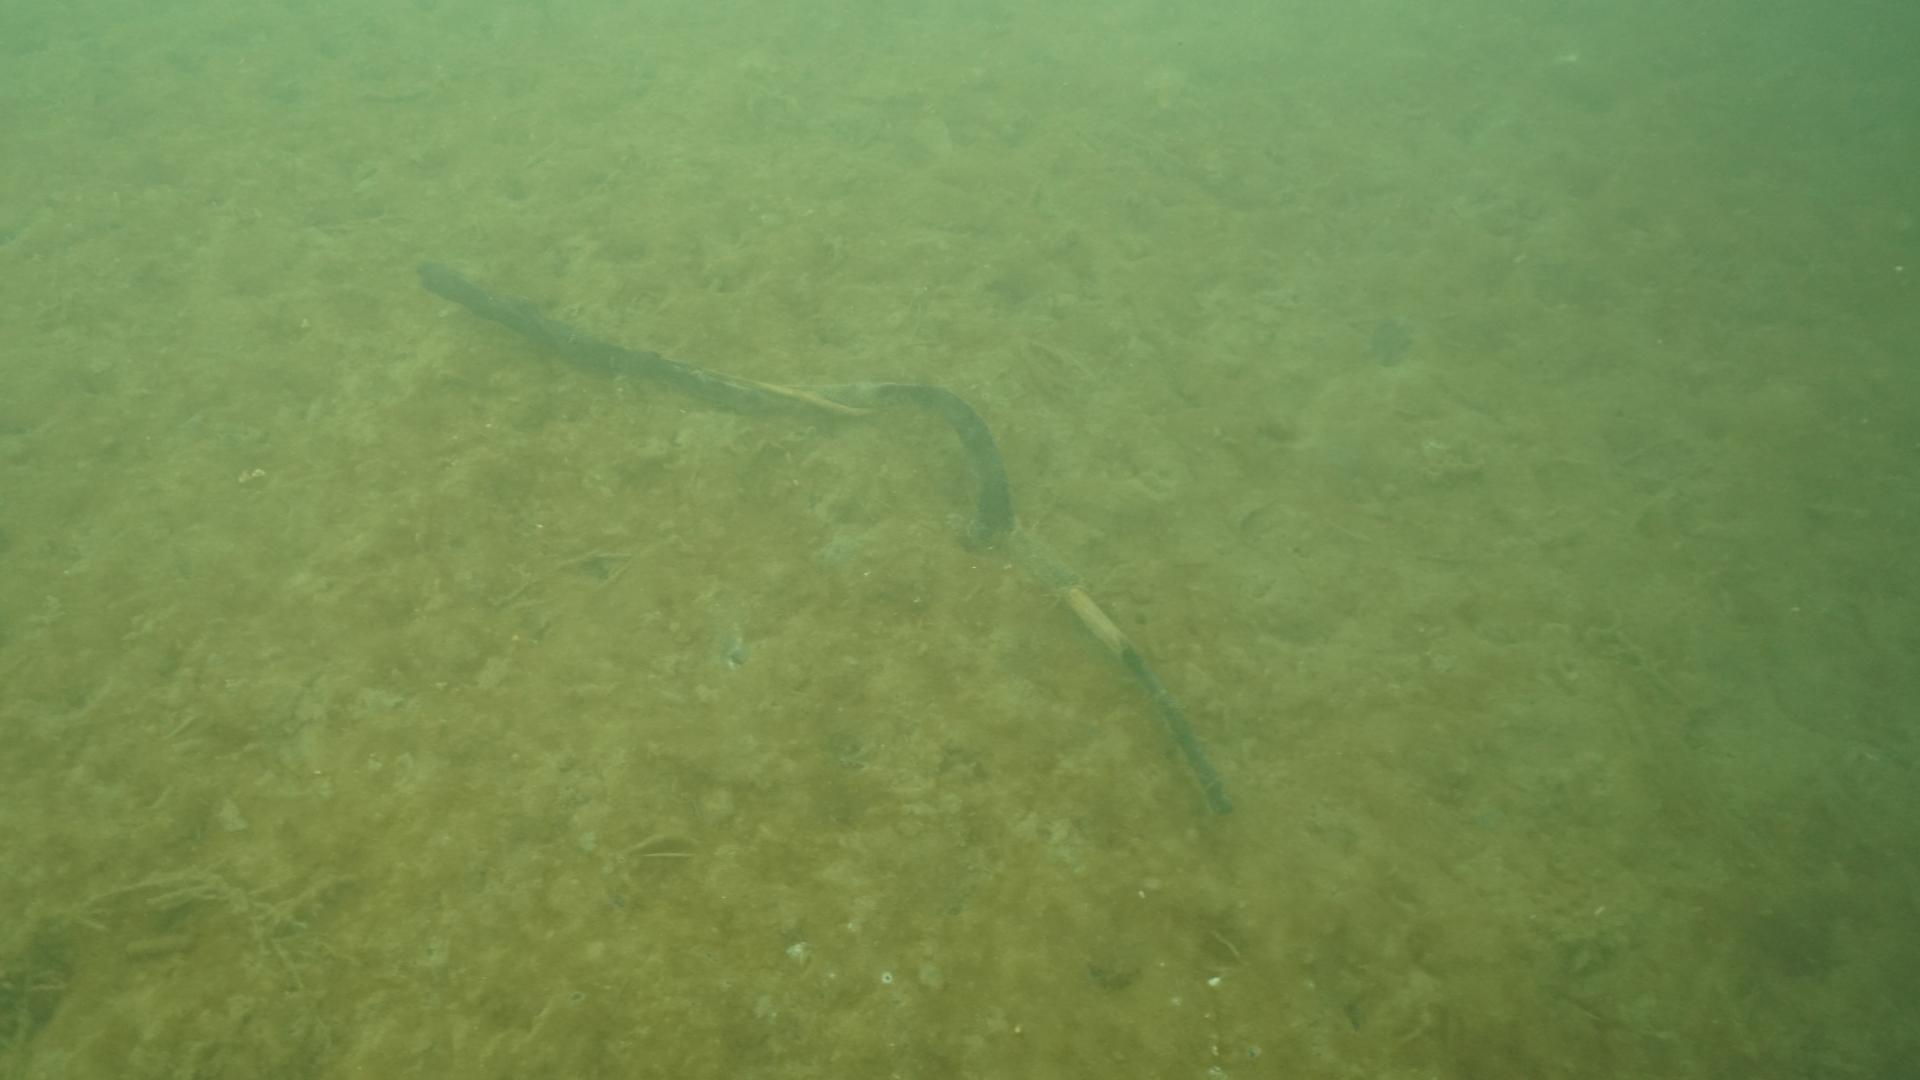wood: (411, 257, 1237, 823)
